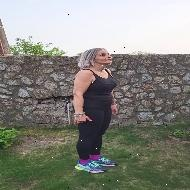high_jumps: (55, 39, 135, 180)
